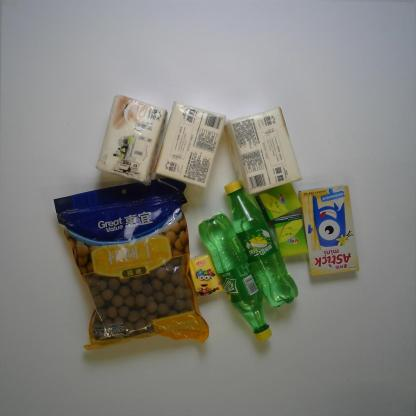Dessert: (298, 184, 360, 278)
Dried Food: (52, 176, 210, 350)
Drink: (222, 178, 300, 309), (198, 212, 273, 342)
Tissue: (224, 94, 298, 192), (94, 95, 168, 187), (154, 100, 227, 189), (258, 176, 297, 222), (187, 252, 224, 299), (271, 214, 309, 259)
